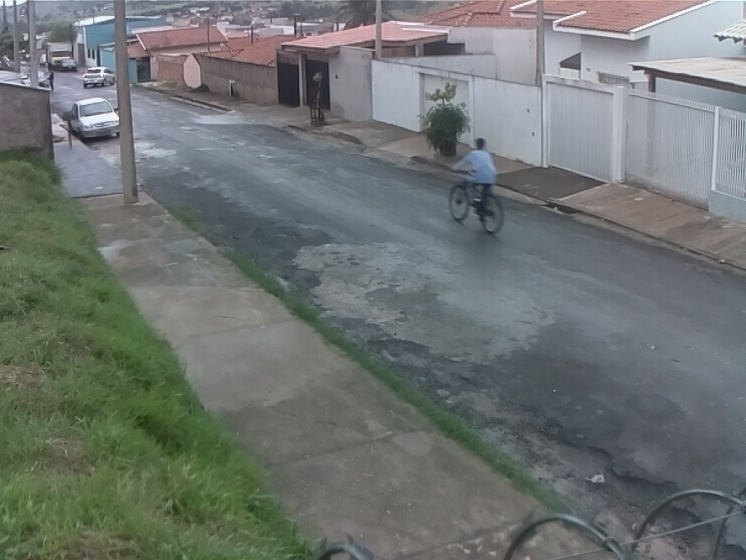person: (452, 137, 496, 216)
